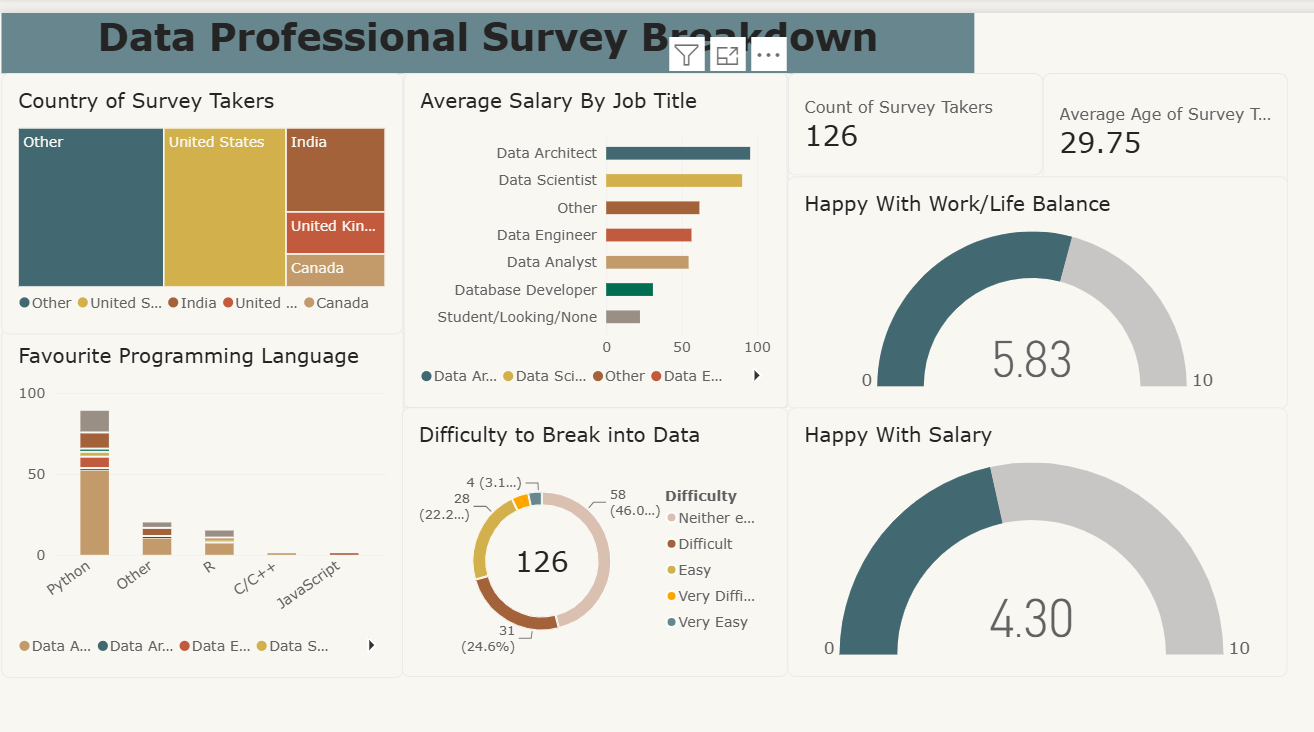

Layout of this report page (visuals, bound fields, positions):
{"tool":"powerbi","page":{"name":"Page 1","canvas":[1920,1080],"ordinal":0},"visuals":[{"type":"textbox","box":[7,0,968,60],"z":0},{"type":"cardVisual","fields":{"Data":["Count(Data Professional Survey.Unique ID)"]},"box":[790,60,254,102],"z":1000},{"type":"cardVisual","fields":{"Data":["Avg(Data Professional Survey.Q10 - Current Age)"]},"box":[1044,60,244,116],"z":2000},{"type":"barChart","title":"Average Salary By Job Title","fields":{"Category":["Data Professional Survey.Q1 - Which Title Best Fits your Current Role?.1"],"Series":["Data Professional Survey.Q1 - Which Title Best Fits your Current Role?.1"],"Y":["Avg(Data Professional Survey.Average_Custom_Salary)"]},"box":[407,60,383,333],"z":3000},{"type":"columnChart","title":" Favourite Programming Language","fields":{"Category":["Data Professional Survey.Q5 - Favorite Programming Language.1"],"Series":["Data Professional Survey.Q1 - Which Title Best Fits your Current Role?.1"],"Y":["CountNonNull(Data Professional Survey.Unique ID)"]},"box":[7,313,400,348],"z":4000},{"type":"treemap","title":"Country of Survey Takers","fields":{"Group":["Data Professional Survey.Q11 - Which Country do you live in?.1"],"Values":["CountNonNull(Data Professional Survey.Q11 - Which Country do you live in?.1)"]},"box":[7,60,399,260],"z":4001},{"type":"gauge","title":"Happy With Work/Life Balance ","fields":{"MaxValue":["Max(Data Professional Survey.Q6 - How Happy are you in your Current Position with the following? (Work/Life Balance))"],"MinValue":["Min(Data Professional Survey.Q6 - How Happy are you in your Current Position with the following? (Work/Life Balance))"],"Y":["Avg(Data Professional Survey.Q6 - How Happy are you in your Current Position with the following? (Work/Life Balance))"]},"box":[789,162,498,231],"z":4002},{"type":"gauge","title":"Happy With Salary","fields":{"MaxValue":["Max(Data Professional Survey.Q6 - How Happy are you in your Current Position with the following? (Salary))2"],"MinValue":["Min(Data Professional Survey.Q6 - How Happy are you in your Current Position with the following? (Salary))1"],"Y":["Avg(Data Professional Survey.Q6 - How Happy are you in your Current Position with the following? (Salary))"]},"box":[790,393,497,268],"z":4003},{"type":"donutChart","title":"Difficulty  to Break into Data","fields":{"Category":["Data Professional Survey.Q7 - How difficult was it for you to break into Data?"],"Y":["CountNonNull(Data Professional Survey.Q7 - How difficult was it for you to break into Data?)"]},"box":[406,393,384,268],"z":4004}]}

Visuals, with their boxes in screenshot pixels (x1, y1, x2, y2), scaled from the page's 1920x1080 canvas onto the 1314x732 screenshot:
textbox: BBox(5, 0, 667, 41)
cardVisual - Count(Data Professional Survey.Unique ID): BBox(541, 41, 714, 110)
cardVisual - Avg(Data Professional Survey.Q10 - Current Age): BBox(714, 41, 881, 119)
"Average Salary By Job Title" barChart: BBox(279, 41, 541, 266)
" Favourite Programming Language" columnChart: BBox(5, 212, 279, 448)
"Country of Survey Takers" treemap: BBox(5, 41, 278, 217)
"Happy With Work/Life Balance " gauge: BBox(540, 110, 881, 266)
"Happy With Salary" gauge: BBox(541, 266, 881, 448)
"Difficulty  to Break into Data" donutChart: BBox(278, 266, 541, 448)
